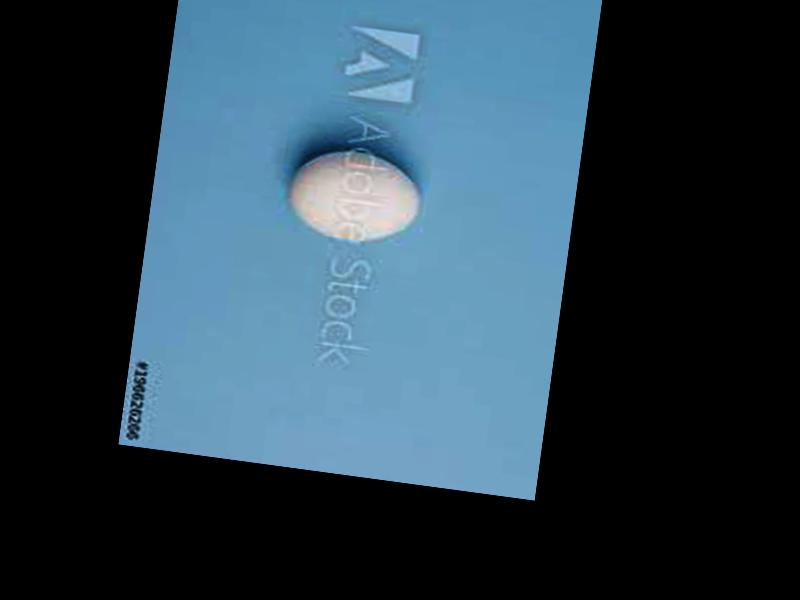Eggs: (285, 144, 422, 247)
